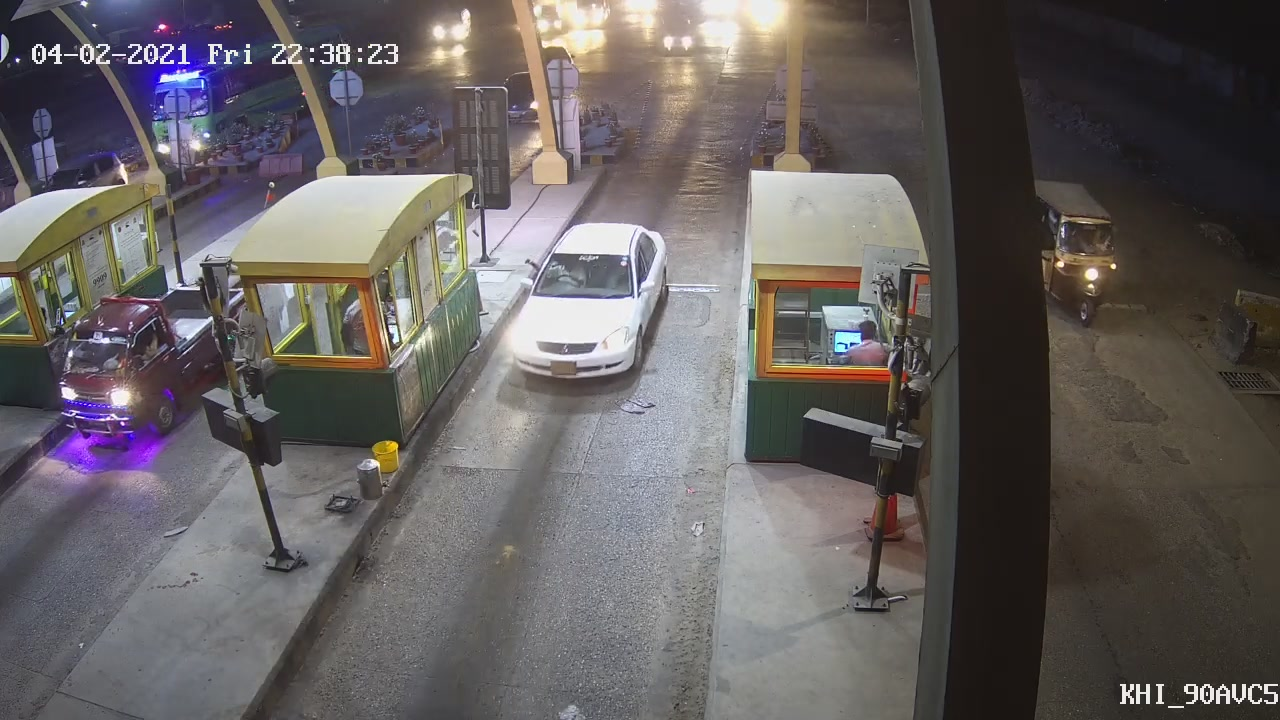F1: (500, 218, 680, 385)
